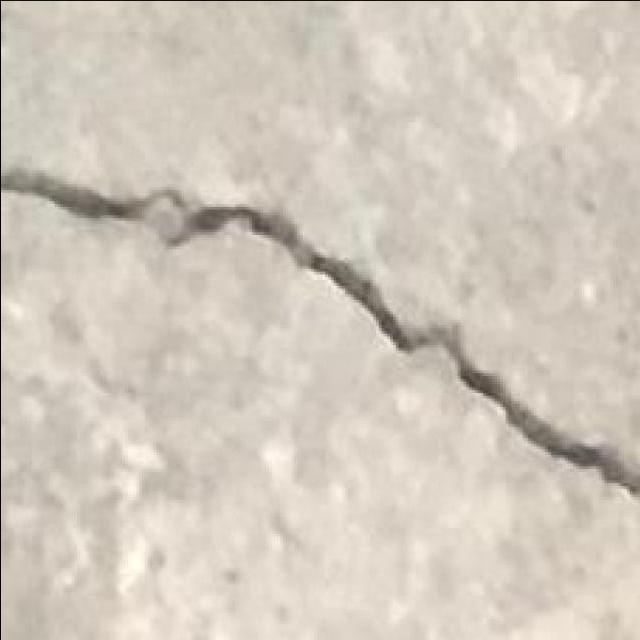Crack: (3, 163, 638, 498)
